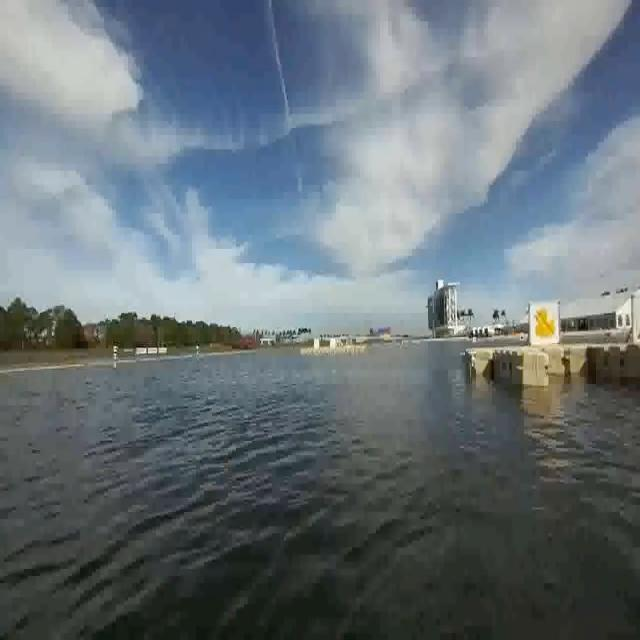yellow-duck: (534, 304, 558, 345)
